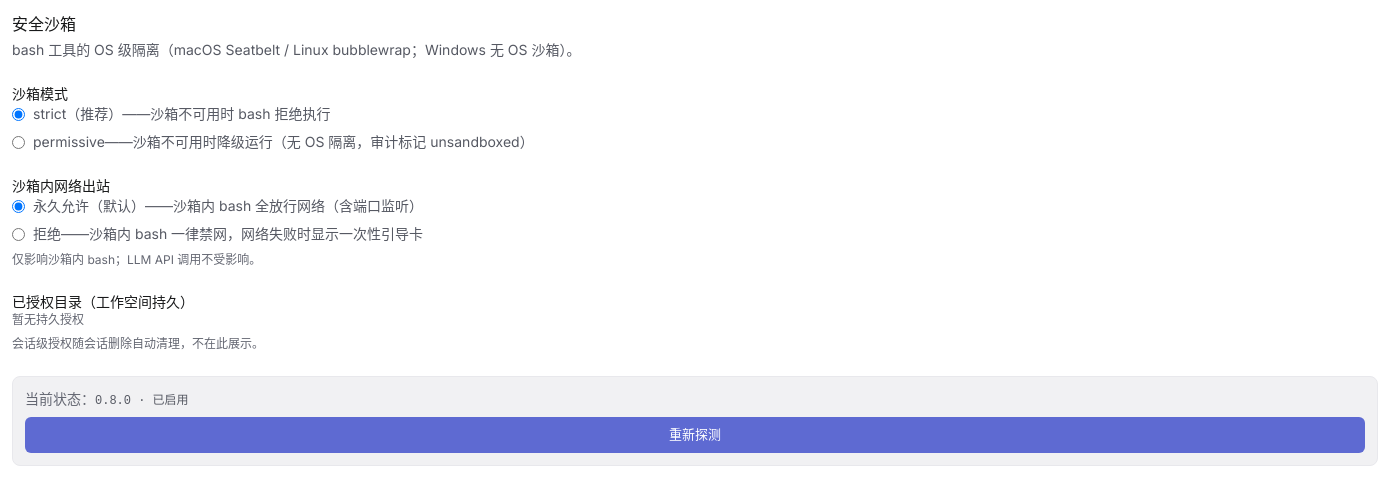
Test: SandboxSettingsPanel › 切换模式为 permissive → 调 updateGlobal({ sandboxMode }) 且乐观选中
Expected: the text "0.8.0 · 已启用" is shown, [95,394,189,408]
Click the radio button labelled "permissive——沙箱不可用时降级运行（无 OS 隔离，审计标记 unsandboxed）": (18, 142) [12,136,25,149]
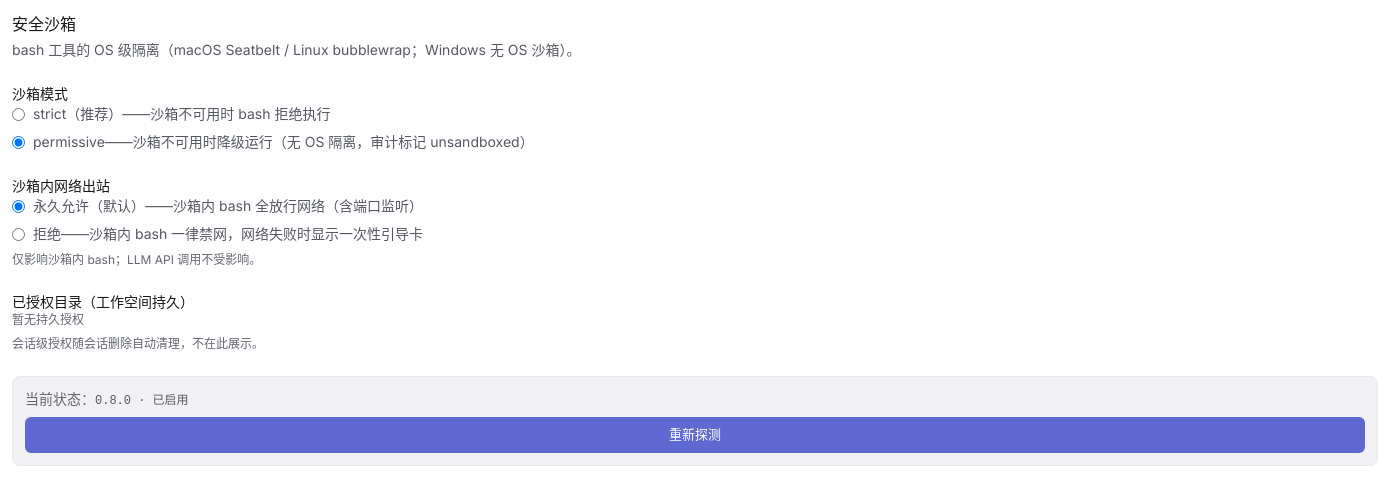
Expected: the radio button labelled "permissive——沙箱不可用时降级运行（无 OS 隔离，审计标记 unsandboxed）" is checked, [12,136,25,149]
Expected: the radio button labelled "strict（推荐）——沙箱不可用时 bash 拒绝执行" is not checked, [12,108,25,121]
